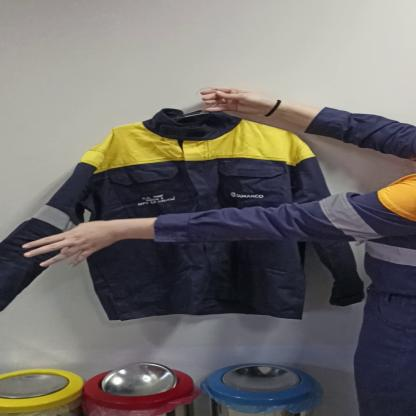C_eletrica: (6, 116, 357, 323)
